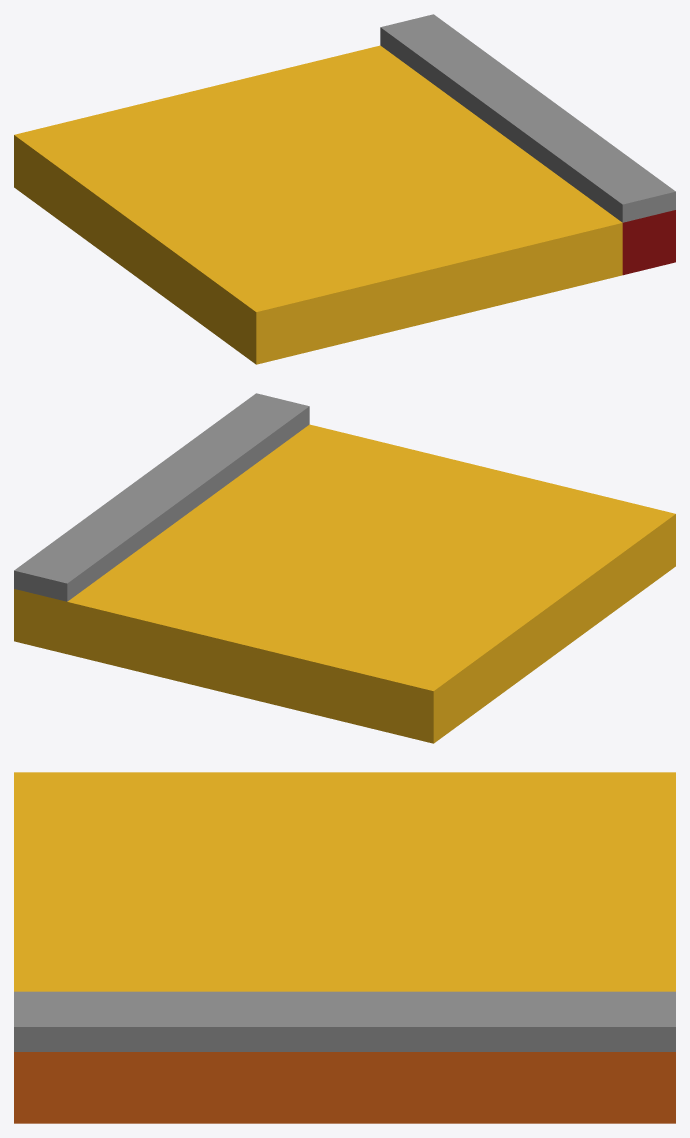
The model's file is MOD_SolsablesideA.FBX.
3 renders of one model, top to bottom at view 1: azimuth 30°, elevation 25°; view 2: azimuth 150°, elevation 25°; view 3: azimuth 270°, elevation 25°, orthographic. The views are drawn at different scales.
Visible parts, largest first — view 1: MOD_terrainherbeC001; view 2: MOD_terrainherbeC001; view 3: MOD_terrainherbeC001.
Part boxes in pixels (<box>): MOD_terrainherbeC001: <box>14,14,675,364</box>; MOD_terrainherbeC001: <box>14,393,675,743</box>; MOD_terrainherbeC001: <box>14,772,675,1123</box>.
Size of the model in its own units: 1 by 0.1611 by 1.
